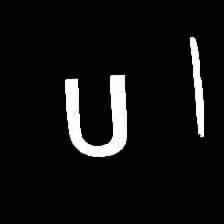LTR_U: (57, 70, 137, 162)
